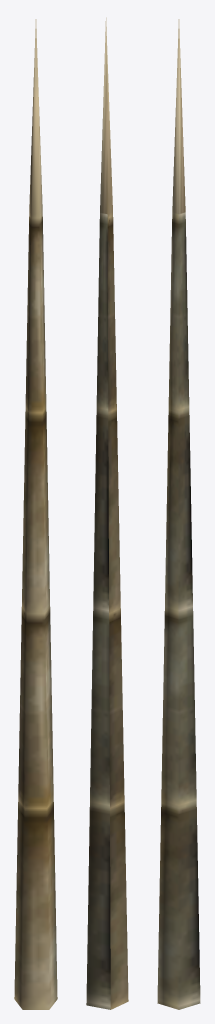
File: fishingpole.fbx
3 views of the same model, side by side, from view 1: azimuth 90°, elevation 25°; view 2: azimuth 210°, elevation 25°; view 3: azimuth 270°, elevation 25° (orthographic).
Parts seen in each view (by area): view 1: fishing_pole; view 2: fishing_pole; view 3: fishing_pole.
Part boxes in pixels (x1=…): fishing_pole: x1=14, y1=19, x2=57, y2=1009; fishing_pole: x1=86, y1=17, x2=128, y2=1009; fishing_pole: x1=157, y1=19, x2=200, y2=1009.
Size of the model in its own units: 0.1016 by 2.7 by 0.1069.
